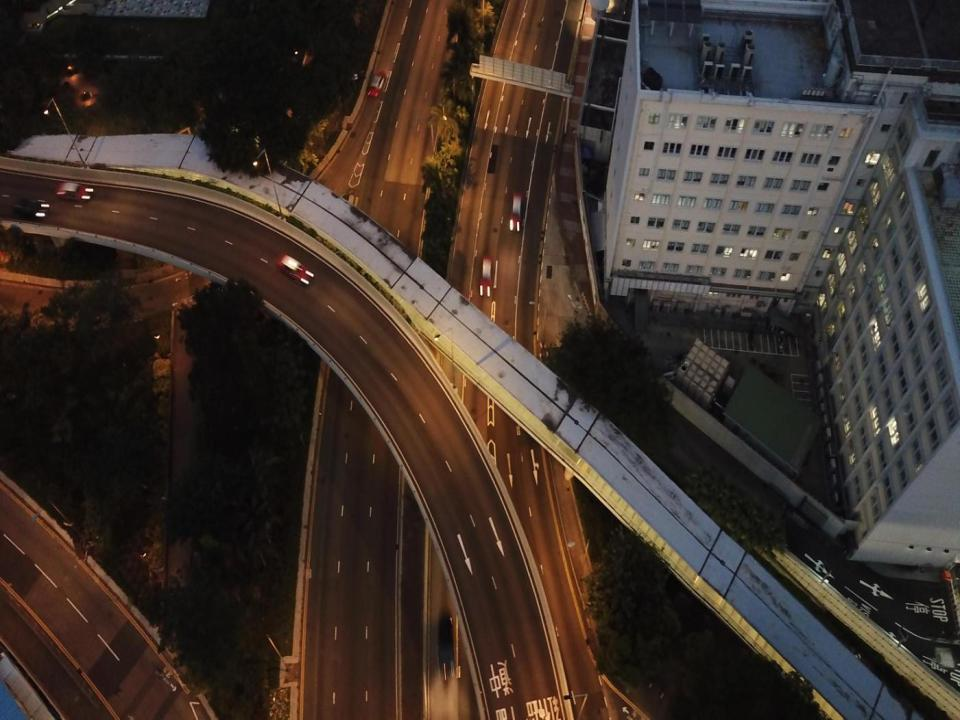car: (438, 614, 463, 679), (279, 255, 314, 286), (55, 181, 94, 204), (8, 198, 49, 219), (478, 258, 496, 298), (507, 192, 522, 231), (368, 72, 386, 98)
